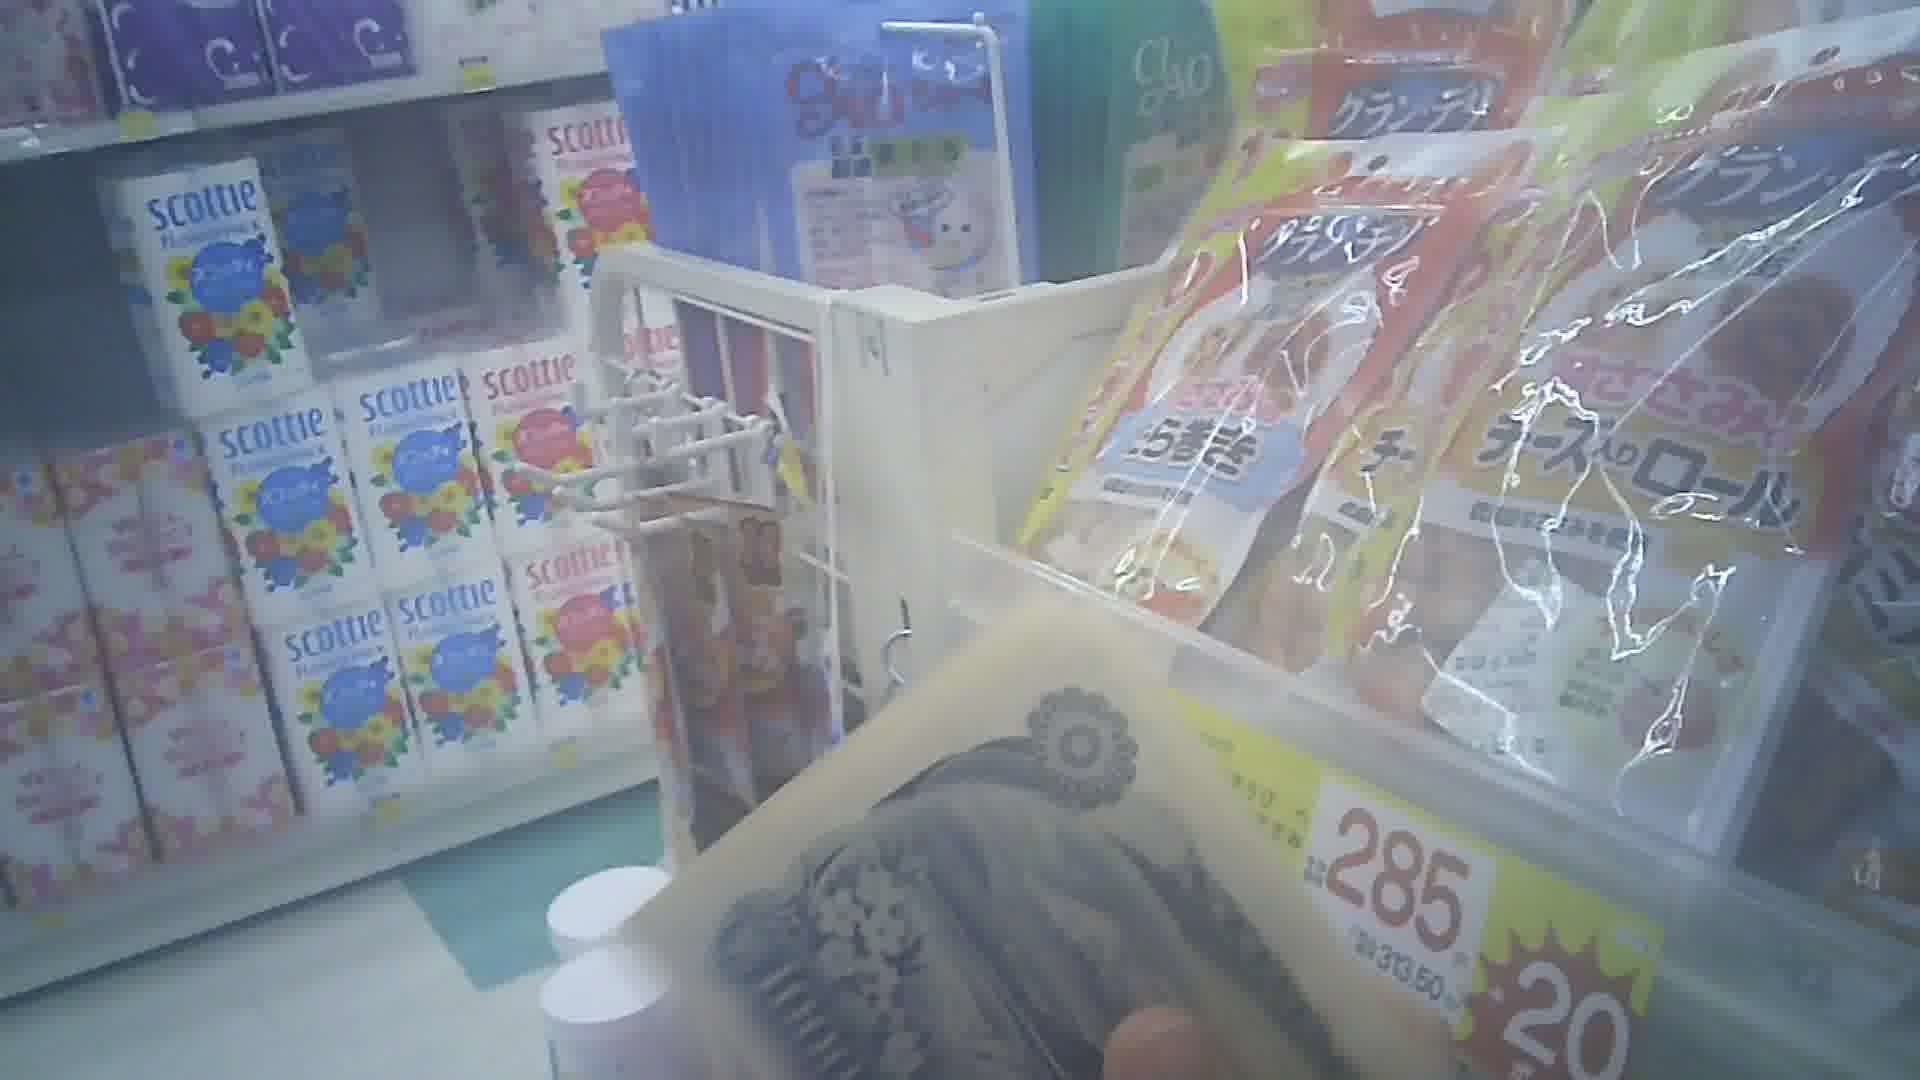1,000 Yen: (611, 579, 1429, 1072)
